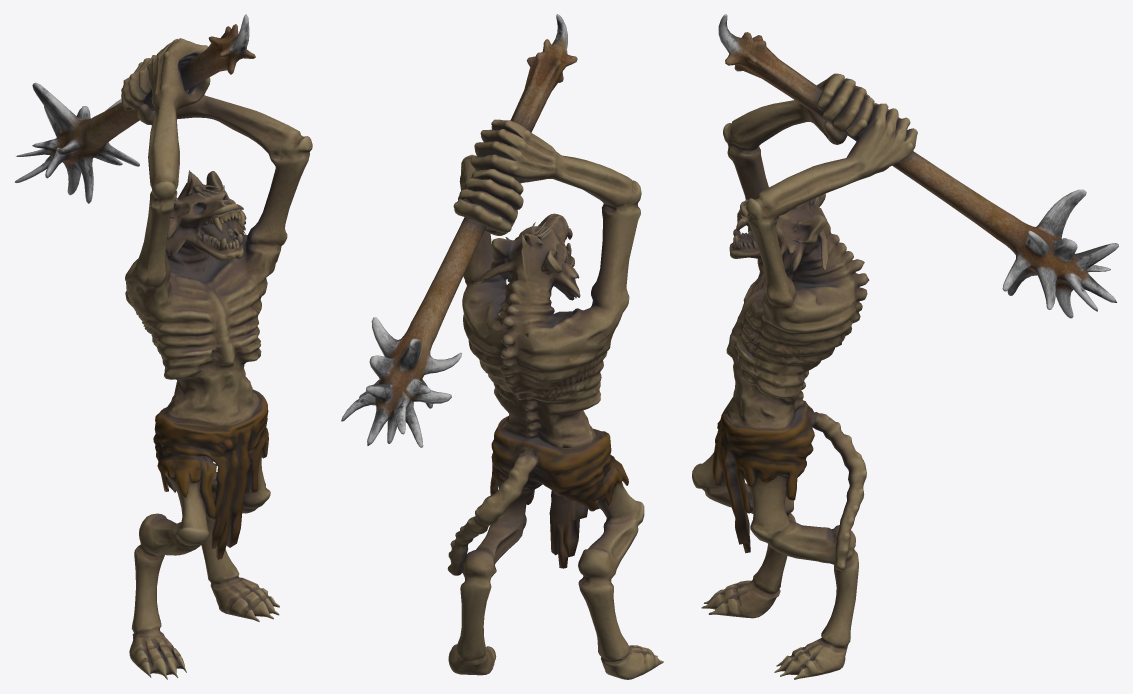
File: MZ4250 - Gnoll Witherling.glb
3 renders of one model, left to right at view 1: azimuth 30°, elevation 25°; view 2: azimuth 150°, elevation 25°; view 3: azimuth 270°, elevation 25°, orthographic.
Parts seen in each view (by area): view 1: Hyena V4.001, Cylinder.002; view 2: Hyena V4.001, Cylinder.002; view 3: Hyena V4.001, Cylinder.002.
Boxes of the visible parts, left/top/right/bottom form: Hyena V4.001: left=121, top=38, right=312, bottom=679; Cylinder.002: left=14, top=14, right=255, bottom=203; Hyena V4.001: left=447, top=119, right=663, bottom=679; Cylinder.002: left=341, top=14, right=577, bottom=447; Hyena V4.001: left=692, top=73, right=917, bottom=679; Cylinder.002: left=718, top=14, right=1118, bottom=318.
Bounding box in the file's own units: 1.85 × 6.12 × 3.72.
1 material, 1 textured.
